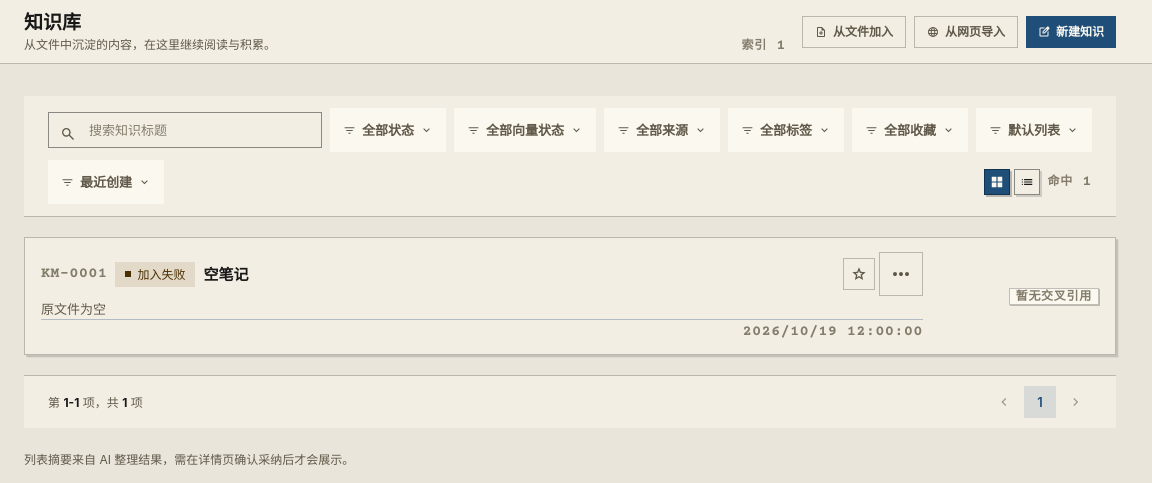
Test: KnowledgeLibrary › shows persisted failures rather than invented summaries
Click the button named "更多操作 空笔记". click: (901, 274)
box: [879,252,923,296]
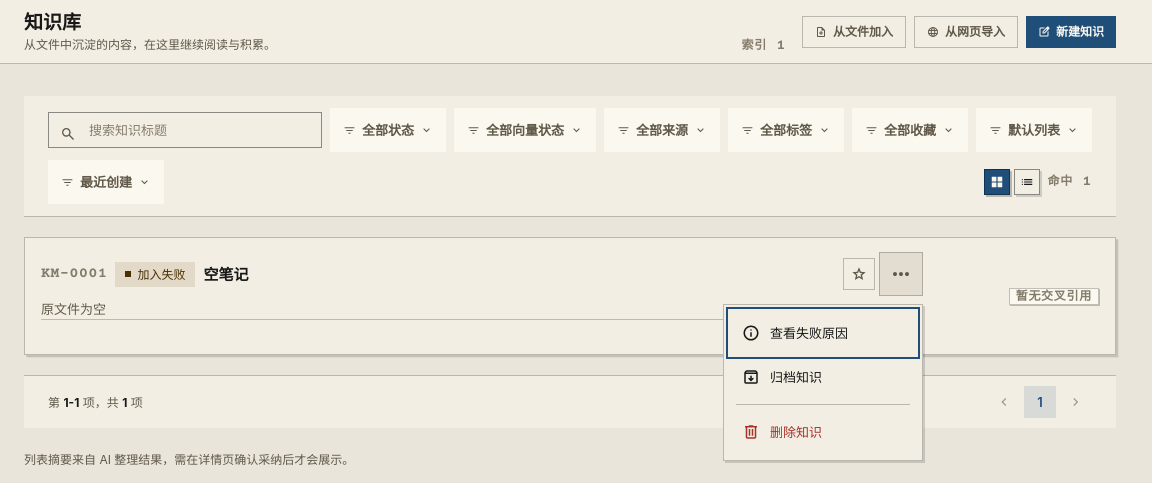
expect the menu named "知识操作 空笔记" shows "查看失败原因": met, box [730,311,916,355]
